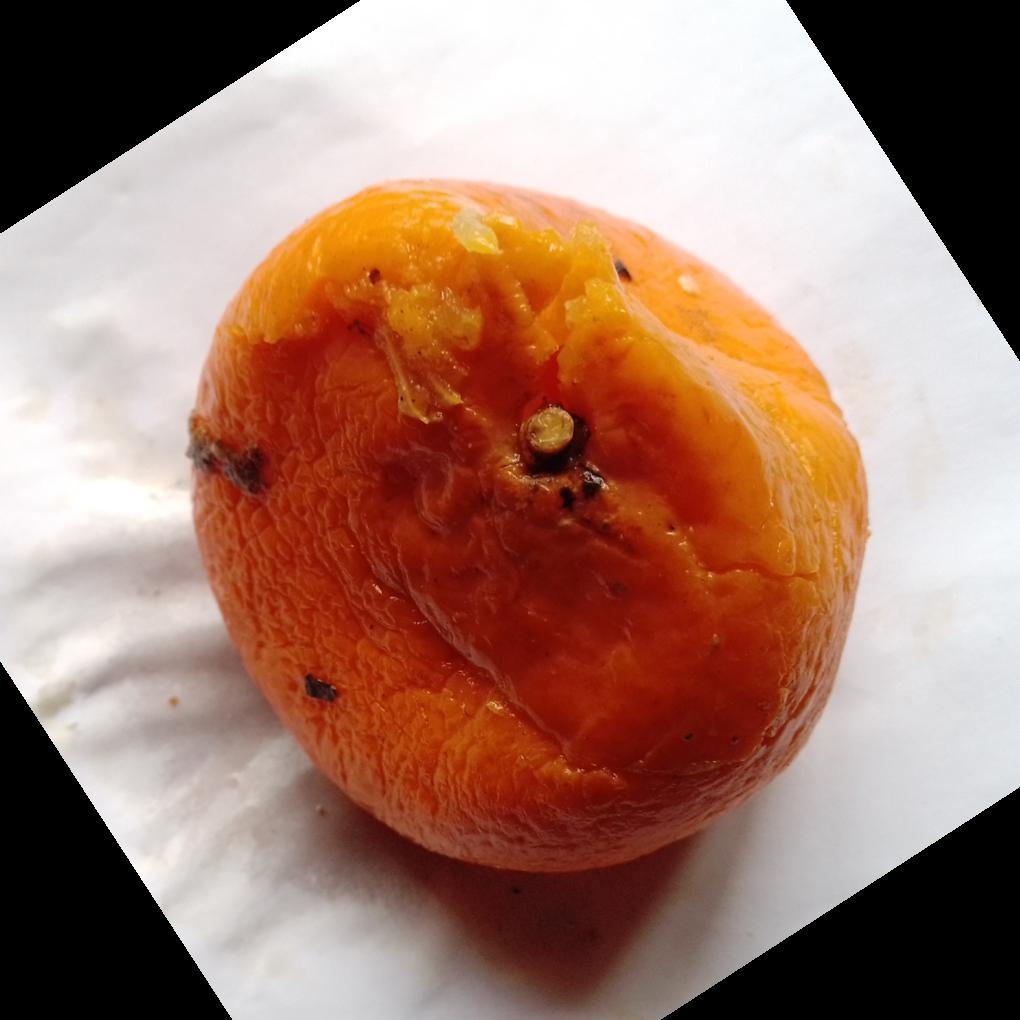FreshOrange: (186, 179, 872, 880)
